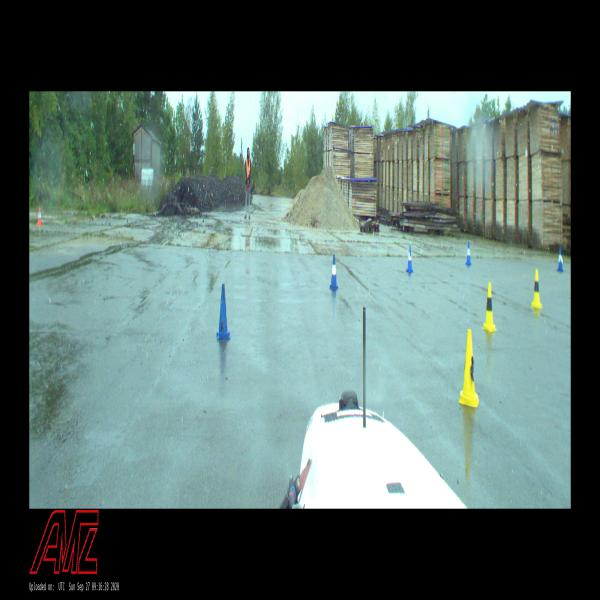blue_cone: (217, 285, 230, 340), (330, 255, 338, 290), (406, 245, 413, 273), (558, 248, 564, 271), (466, 243, 471, 265)
orange_cone: (37, 207, 42, 225)
yellow_cone: (459, 330, 479, 407), (482, 283, 497, 332), (532, 270, 542, 308)
